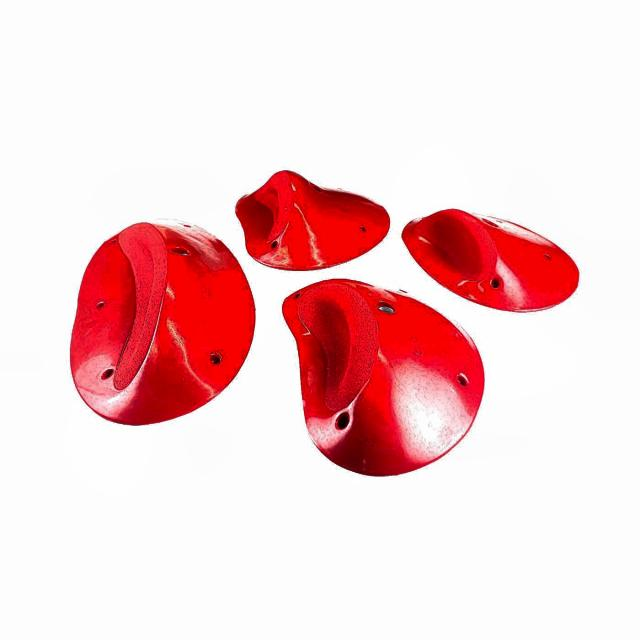Hold: (282, 280, 481, 476), (70, 218, 255, 424), (402, 204, 582, 314), (239, 166, 394, 272)
